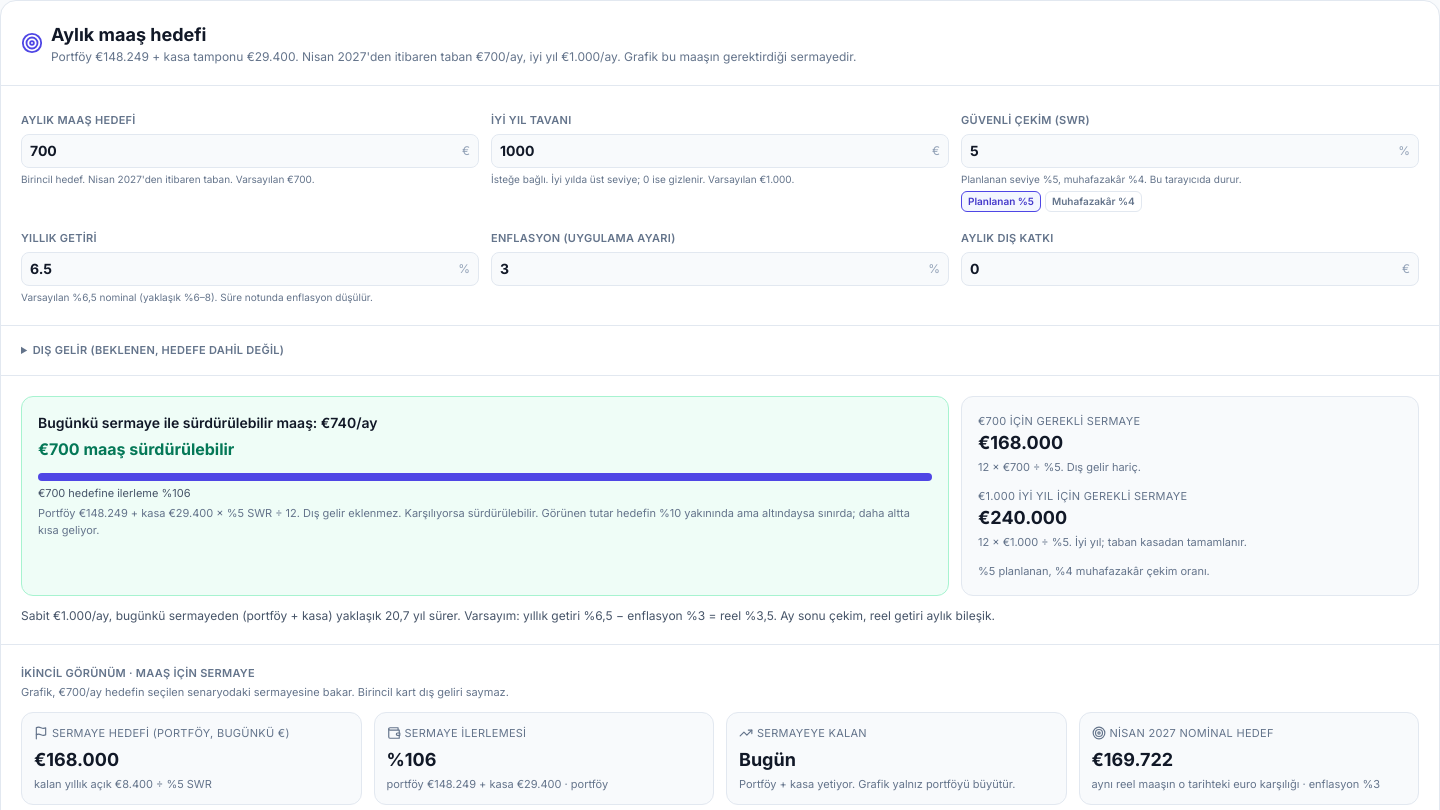
Test: Hedef aylık maaş › getiri değişince süre notunun varsayımı değişir
Expected: the heading "Aylık maaş hedefi" is shown, [51,24,206,45]
Replace the text in the number field labelled "Yıllık getiri" with "8": (242, 269) [30,259,454,279]
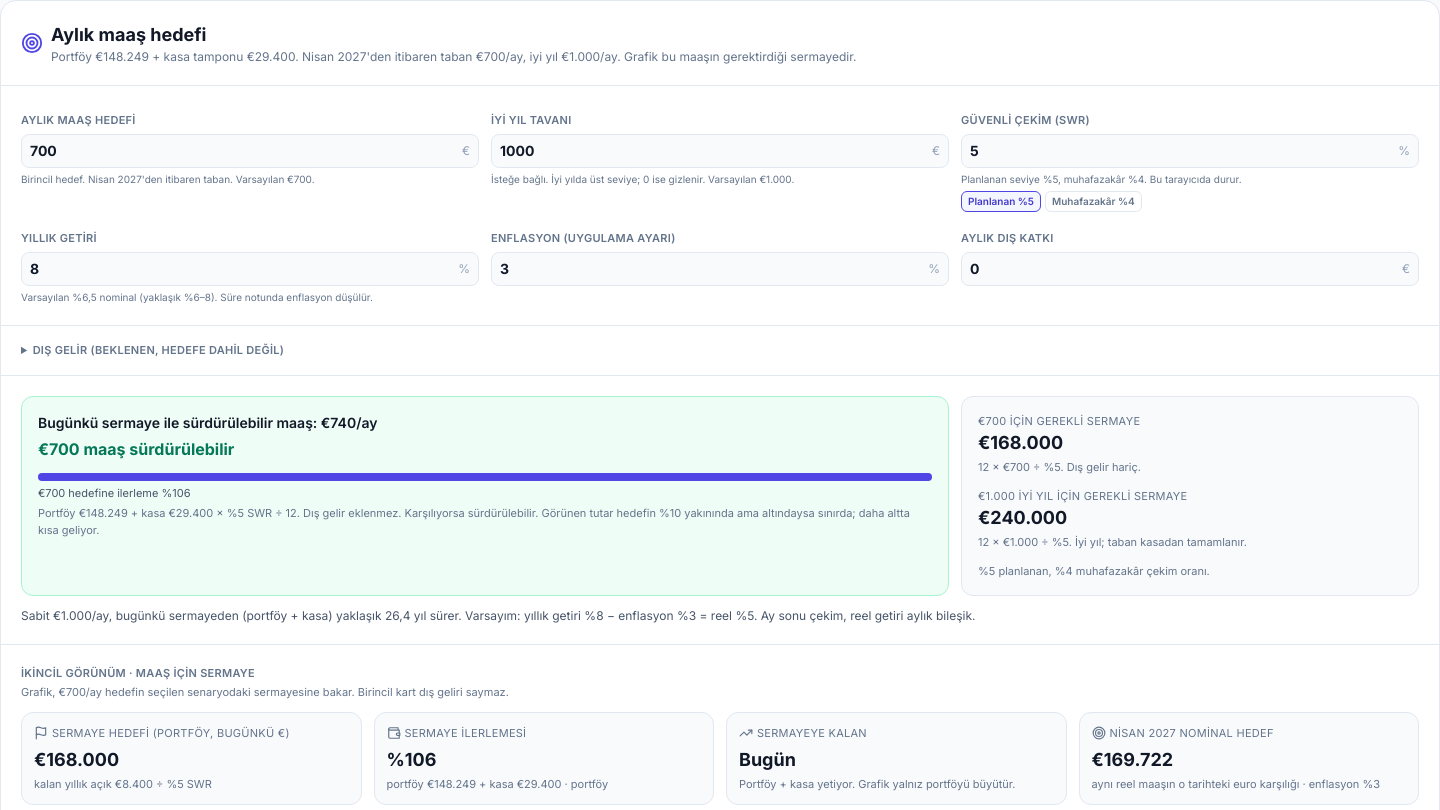
Expected: the text "yıllık getiri %8 − enflasyon %3 = reel %5" is shown, [21,608,976,623]
Expected: the text "yıllık getiri %6,5" is gone
